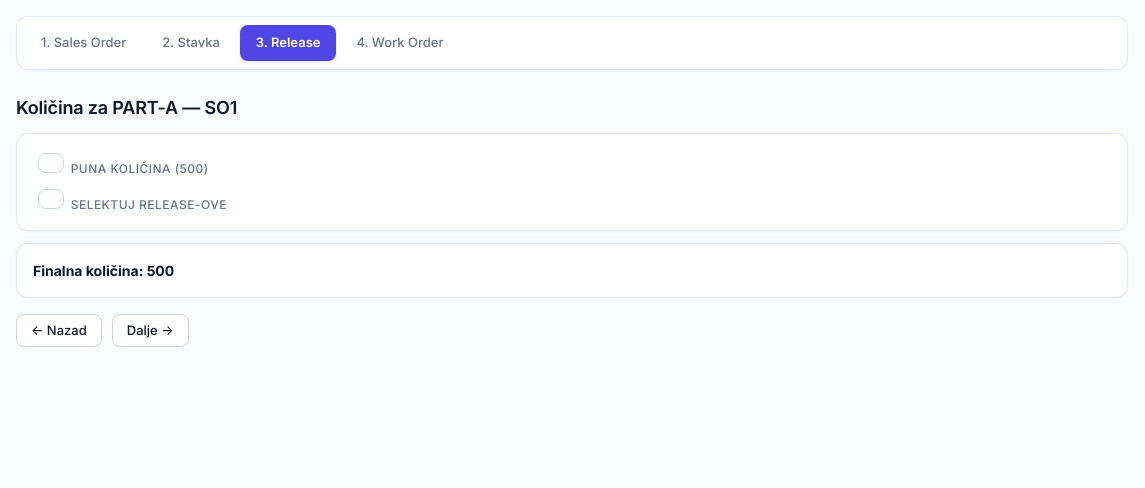
ReleasesPage › switching to release mode sums checked release qtys
The image size is (1145, 488).
Click the radio button labelled "Selektuj release-ove" at x=51, y=198, box [38,188,64,208]
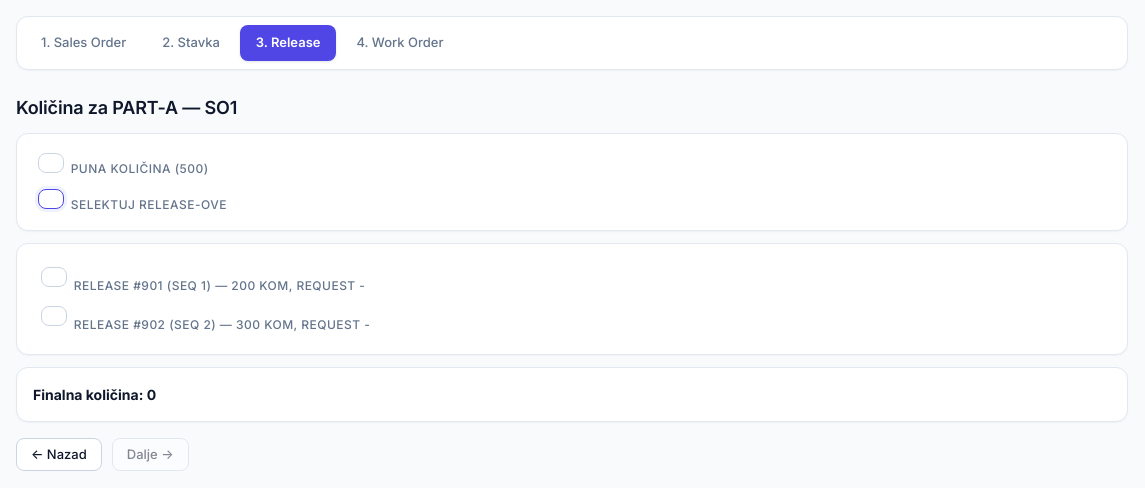
Expected: the checkbox labelled "Release #901 (seq 1) — 200 kom, request -" is shown
Click the checkbox labelled "Release #901 (seq 1) — 200 kom, request -" at x=54, y=276, box [41,266,67,286]
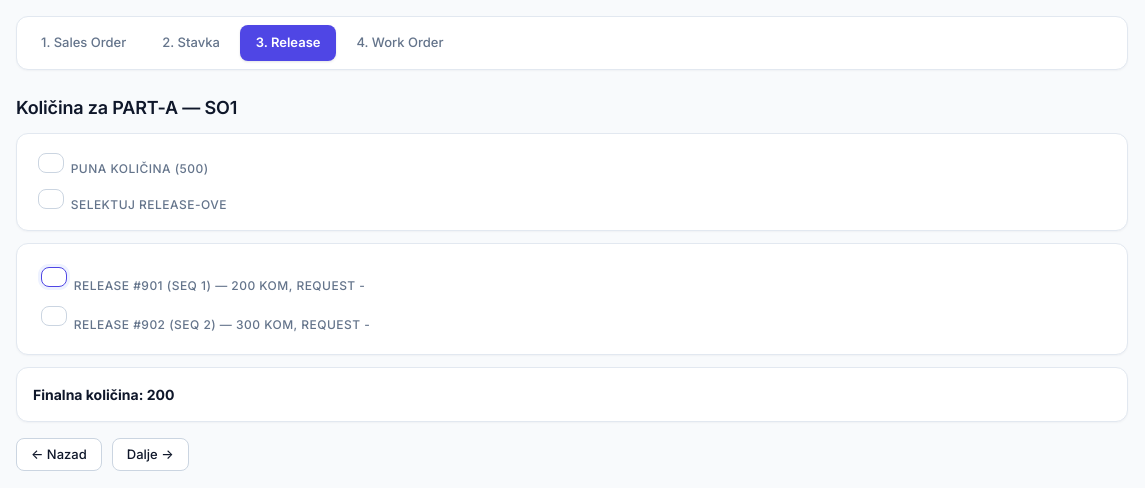
Expected: the text with test id "final-qty" reads "200", [147,386,174,402]
Click the checkbox labelled "Release #902 (seq 2) — 300 kom, request -" at x=54, y=316, box [41,306,67,326]
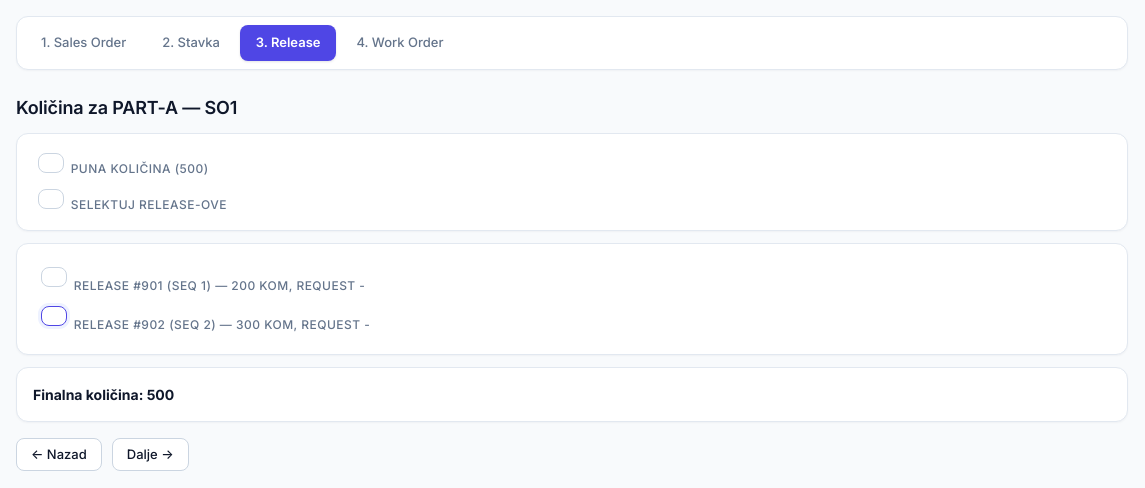
Expected: the text with test id "final-qty" reads "500", [147,386,174,402]
